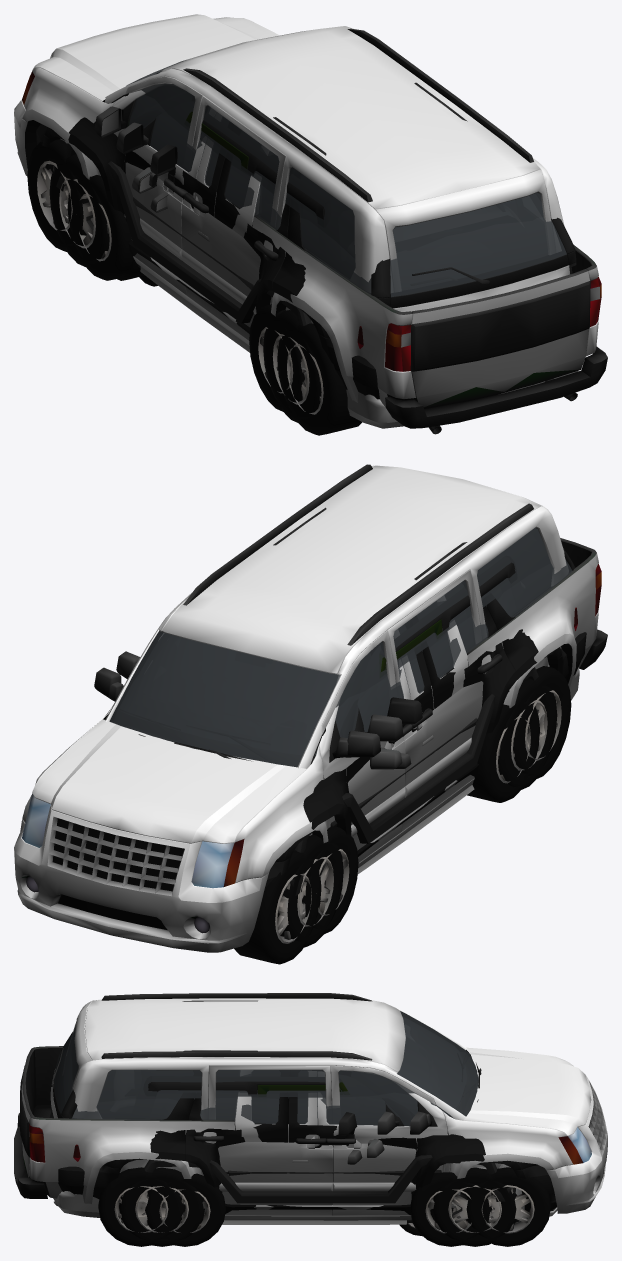
Rendered from cars.glb.
The picture shows the model from 3 angles, top to bottom: view 1: azimuth 30°, elevation 25°; view 2: azimuth 150°, elevation 25°; view 3: azimuth 270°, elevation 25°; orthographic projection. The views are drawn at different scales.
Visible parts, largest first — view 1: minivan_paint, pickup_paint, pickup_trim, suv_trim, suv_glass, minivan_glass, offroad_trim, pickup_wheel, suv_wheel, offroad_wheel, minivan_trim, pickup_optics (+2 smaller); view 2: minivan_paint, pickup_paint, minivan_glass, pickup_trim, suv_trim, offroad_trim, pickup_wheel, suv_wheel, offroad_wheel, minivan_trim, suv_glass, pickup_optics (+2 smaller); view 3: minivan_paint, pickup_paint, suv_trim, minivan_glass, pickup_wheel, offroad_trim, suv_wheel, pickup_trim, suv_glass, offroad_wheel, minivan_trim, pickup_glass (+2 smaller).
Boxes of the visible parts, x1,y1,x2,y2 form: minivan_paint: (60,26,578,428); pickup_paint: (14,14,598,408); pickup_trim: (25,99,607,434); suv_trim: (36,82,576,399); suv_glass: (172,124,566,297); minivan_glass: (126,59,543,258); offroad_trim: (53,111,330,325); pickup_wheel: (27,139,362,435); suv_wheel: (49,154,321,422); offroad_wheel: (67,175,304,411); minivan_trim: (111,28,533,285); pickup_optics: (22,71,601,371); minivan_paint: (105,465,579,868); pickup_paint: (14,553,598,952); minivan_glass: (109,527,550,767); pickup_trim: (22,538,607,929); suv_trim: (113,507,586,904); offroad_trim: (284,556,553,895); pickup_wheel: (234,666,571,964); suv_wheel: (278,678,557,947); offroad_wheel: (302,700,539,933); minivan_trim: (105,464,533,764); suv_glass: (376,559,572,708); pickup_optics: (22,564,601,933); minivan_paint: (53,998,557,1220); pickup_paint: (21,1047,607,1213); suv_trim: (49,1000,556,1220); minivan_glass: (71,1011,478,1118); pickup_wheel: (98,1167,550,1246); offroad_trim: (124,1076,516,1203); suv_wheel: (119,1167,516,1246); pickup_trim: (14,1046,607,1198); suv_glass: (54,1033,360,1124); offroad_wheel: (145,1172,491,1246); minivan_trim: (54,993,556,1210); pickup_glass: (335,1092,448,1126).
Size of the model in its own units: 2.07 by 1.76 by 5.18.
